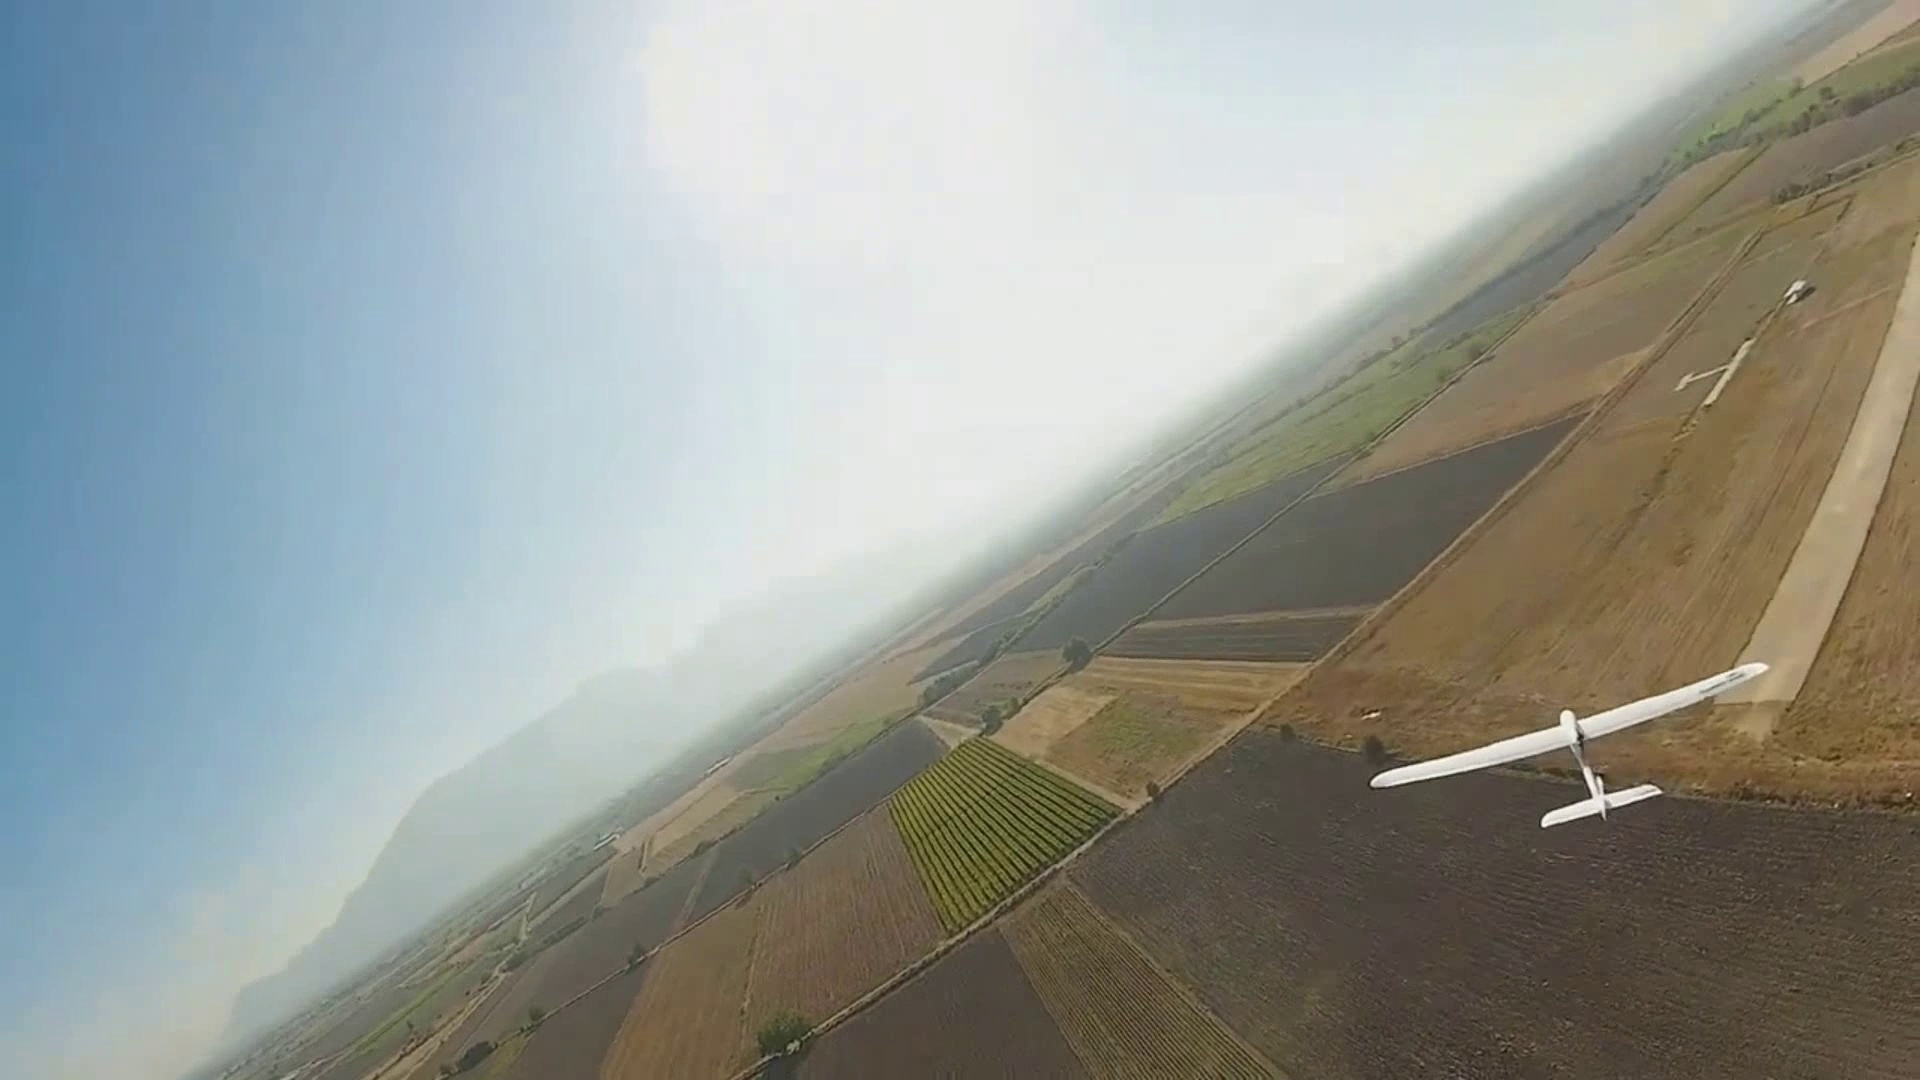airplane: (37, 18, 1888, 1063)
